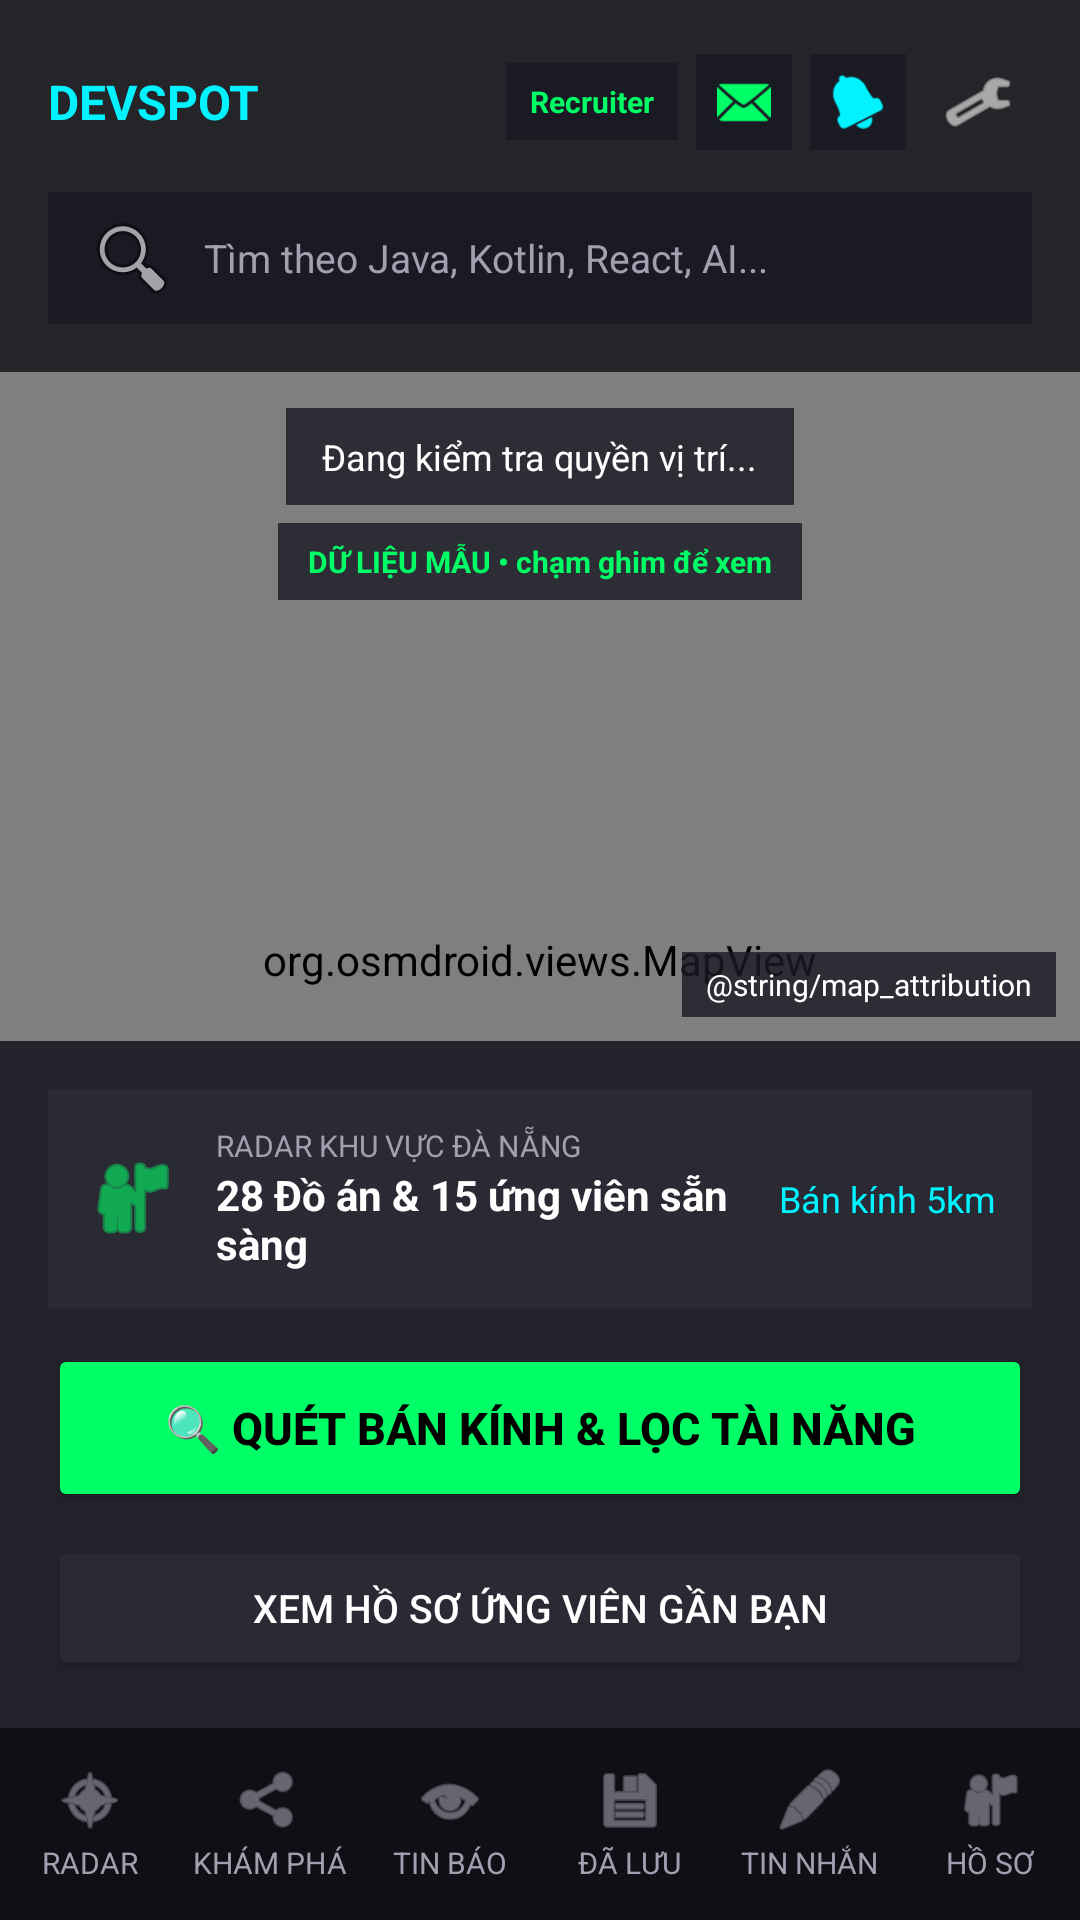

Named icons in this screenshot (1080 × 1920) and their centers, (x=x, y=y):
compass: (x=89, y=1800)
Cài đặt: (x=977, y=102)
edit: (x=809, y=1799)
myplaces: (x=133, y=1198), (x=991, y=1800)
share: (x=266, y=1800)
Thông báo: (x=858, y=102)
Tin nhắn: (x=744, y=102)
